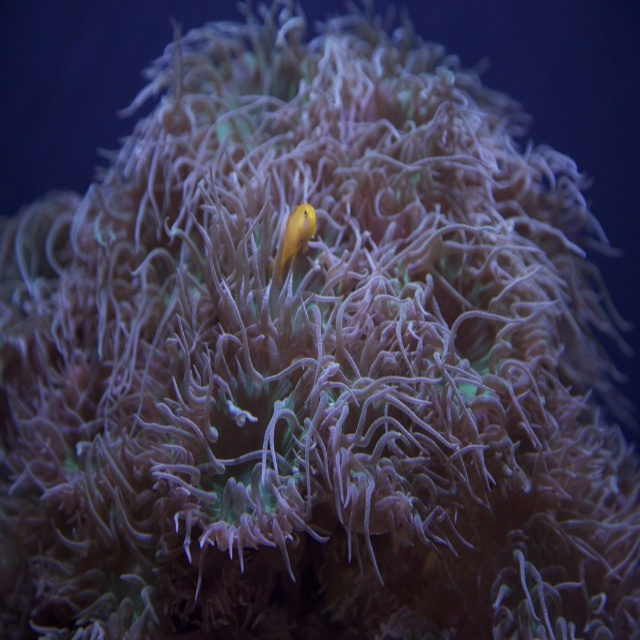Fish: (268, 203, 316, 283)
